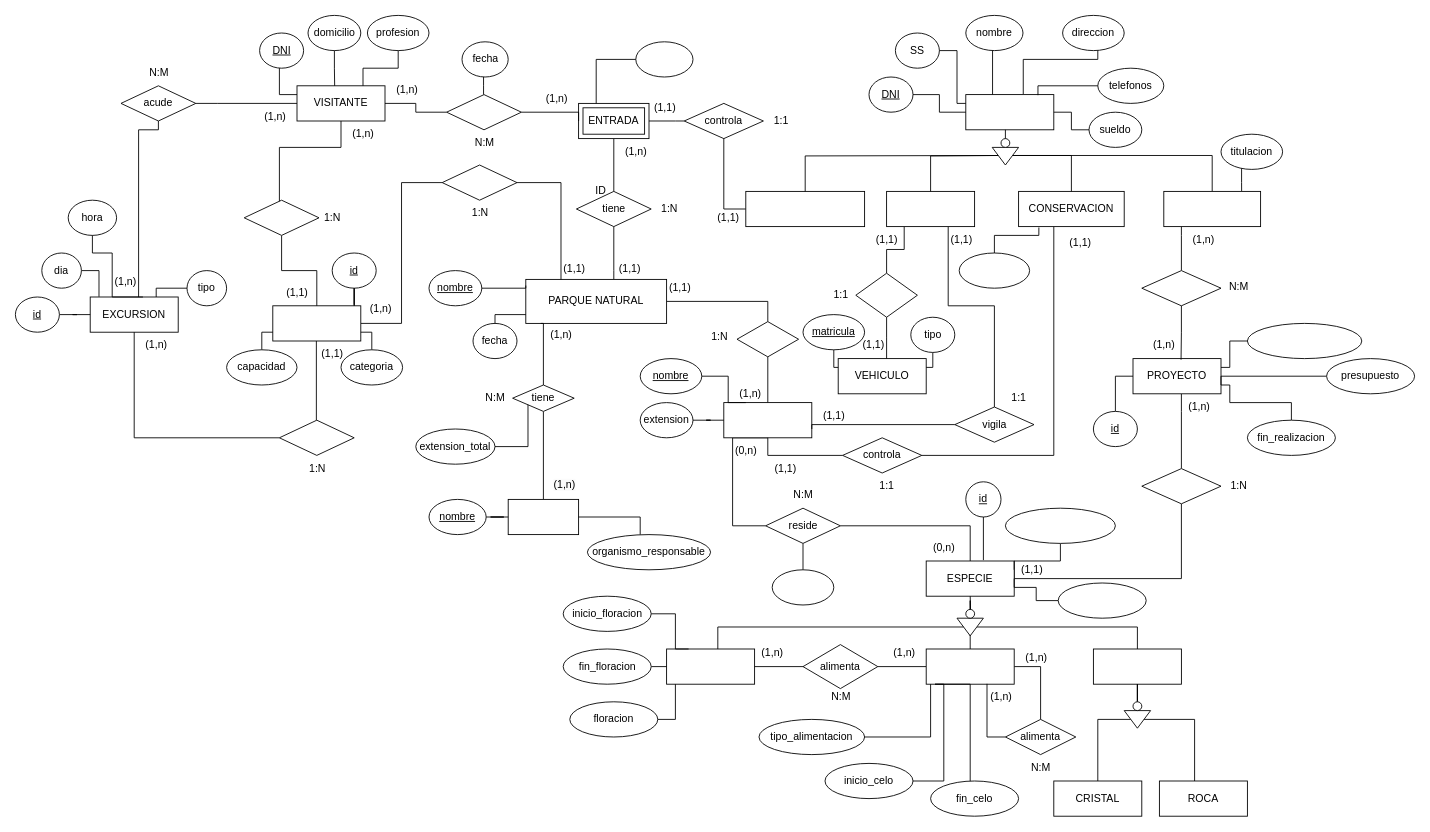
Some shapes in this 1430 by 832 pixel diagram are drawn without their labels. The shapes that lost their labels are listed below. From the top down, each one's box as (x1, y1, x2, y2) in pixels, then its label:
(635, 41, 693, 77): numero
(446, 94, 521, 130): entra
(965, 94, 1054, 130): PERSONAL
(441, 164, 517, 200): dispone
(243, 199, 319, 235): aloja
(745, 191, 865, 227): CONTROL_ACCESO
(886, 191, 975, 227): VIGILANCIA
(1163, 191, 1261, 227): INVESTIGADOR
(958, 252, 1030, 288): especialidad
(1141, 270, 1221, 306): realiza
(855, 272, 917, 317): conduce
(272, 305, 361, 341): ALOJAMIENTO
(736, 321, 799, 357): contiene
(1247, 323, 1362, 359): inicio_realizacion
(279, 419, 354, 455): organiza
(723, 402, 812, 438): AREA
(1141, 468, 1221, 504): investiga
(507, 499, 579, 535): CA
(1005, 507, 1115, 543): denom_cientifica
(771, 569, 834, 605): inventario
(1057, 582, 1146, 618): denom_vulgar
(666, 648, 755, 684): VEGETAL
(925, 648, 1014, 684): ANIMAL
(1093, 648, 1181, 684): MINERAL
